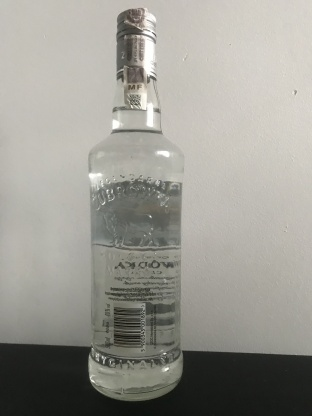nakretka: (113, 6, 159, 81)
